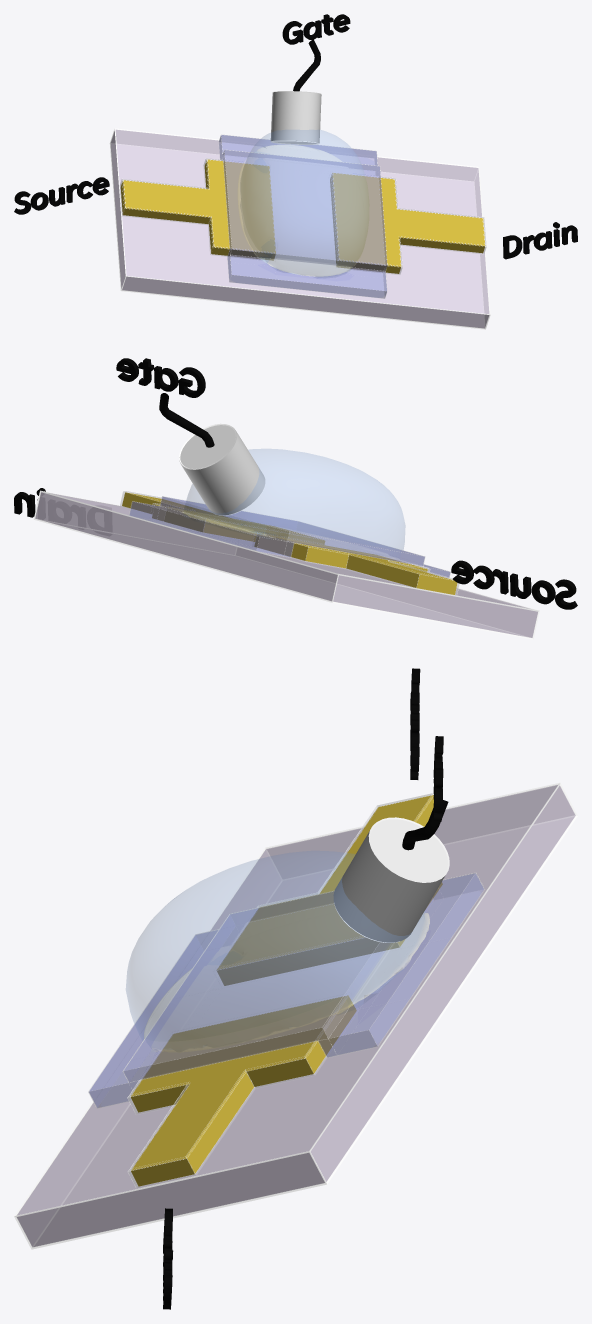
The model's file is OECT.gltf.
The picture shows the model from 3 angles, top to bottom: view 1: azimuth 30°, elevation 25°; view 2: azimuth 150°, elevation 25°; view 3: azimuth 270°, elevation 25°; orthographic projection. The views are drawn at different scales.
Parts seen in each view (by area): view 1: Substrate, PEDOTPSS, gold_source_drain, Electrolyte, Cylinder, Electrolyte.001, Source_text, Drain_text, Gate_text, BezierCurve; view 2: Substrate, Electrolyte, gold_source_drain, PEDOTPSS, Cylinder, Source_text, Gate_text, BezierCurve, Electrolyte.001, Drain_text; view 3: Substrate, PEDOTPSS, Electrolyte, gold_source_drain, Cylinder, Electrolyte.001, Source_text, Drain_text, Gate_text.
Boxes of the visible parts, box(x1,y1,x2,y2) form: Substrate: box(109, 128, 490, 329); PEDOTPSS: box(218, 134, 387, 298); gold_source_drain: box(119, 158, 486, 274); Electrolyte: box(241, 130, 369, 277); Cylinder: box(270, 91, 321, 144); Electrolyte.001: box(238, 145, 355, 276); Source_text: box(14, 177, 109, 214); Drain_text: box(503, 222, 577, 259); Gate_text: box(282, 14, 350, 44); BezierCurve: box(293, 39, 320, 91); Substrate: box(33, 490, 539, 639); Electrolyte: box(184, 449, 405, 550); gold_source_drain: box(120, 491, 459, 595); PEDOTPSS: box(129, 496, 450, 578); Cylinder: box(179, 425, 265, 515); Source_text: box(451, 560, 577, 609); Gate_text: box(116, 358, 205, 397); BezierCurve: box(159, 393, 214, 447); Electrolyte.001: box(182, 511, 394, 558); Drain_text: box(14, 488, 45, 517); Substrate: box(14, 782, 577, 1249); PEDOTPSS: box(88, 872, 484, 1108); Electrolyte: box(126, 851, 424, 1048); gold_source_drain: box(127, 793, 443, 1188); Cylinder: box(333, 819, 449, 942); Electrolyte.001: box(144, 911, 429, 1051); Source_text: box(410, 668, 420, 779); Drain_text: box(163, 1208, 173, 1309); Gate_text: box(433, 736, 443, 821).
Size of what is drawn, in the model's own units: 2.73 by 1.29 by 1.5.
